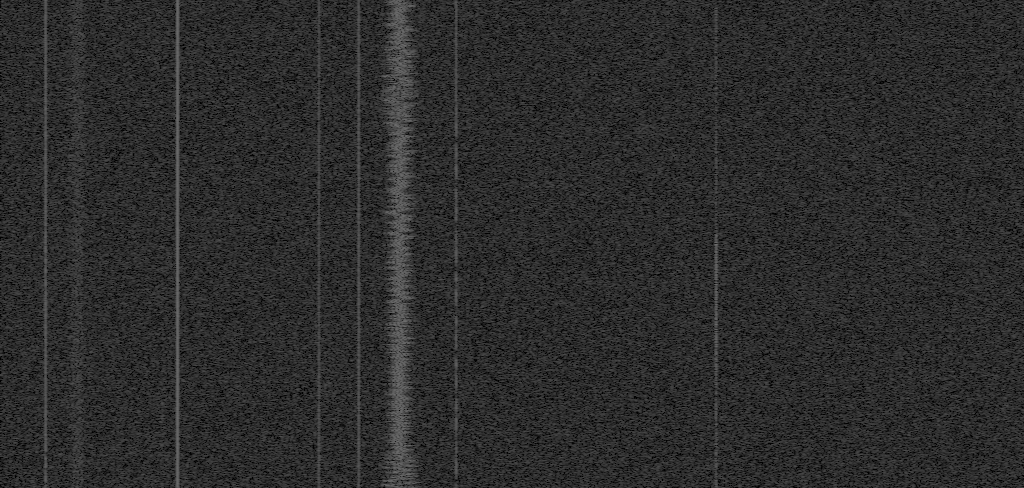wv_am: (39, 0, 53, 488), (454, 0, 459, 310), (451, 355, 461, 488), (454, 311, 459, 352)
wv_cw: (166, 0, 189, 488), (353, 0, 364, 488), (316, 0, 322, 488)
wv_lsb: (713, 217, 720, 488), (714, 5, 719, 129), (714, 130, 719, 216)
wv_usb: (160, 204, 165, 235), (160, 400, 165, 424), (160, 296, 164, 325), (160, 252, 164, 276), (160, 88, 164, 112), (160, 425, 164, 444), (160, 277, 164, 295), (160, 13, 164, 29), (161, 337, 164, 351), (160, 30, 164, 40), (160, 195, 164, 203), (160, 113, 164, 121), (161, 326, 164, 336), (160, 241, 164, 248), (161, 138, 164, 145), (161, 124, 164, 130), (161, 236, 164, 240), (161, 146, 164, 150), (160, 45, 164, 48), (161, 453, 164, 457), (160, 445, 164, 448), (161, 54, 164, 57), (161, 41, 164, 44), (161, 7, 164, 10), (161, 460, 164, 463), (161, 449, 164, 452)
wv_wbfm: (376, 0, 435, 488), (59, 0, 95, 488)
